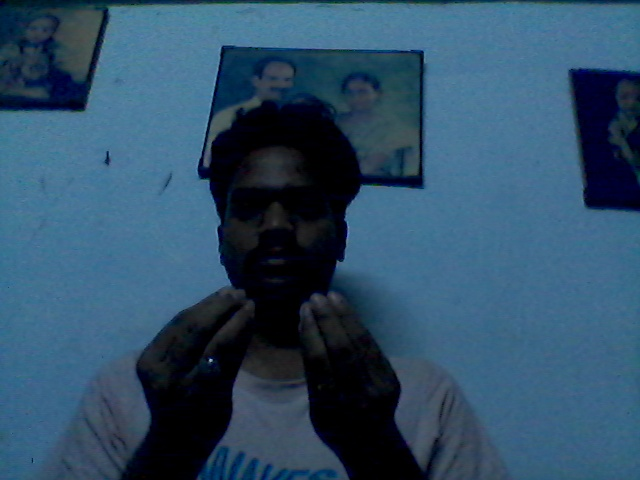Sorry: (130, 284, 405, 464)
